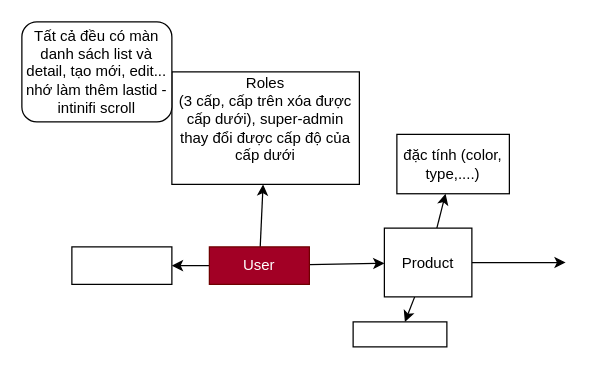
Image size: 598x369. Some labels were removed from this diagram. The centre of each missing label's shape, as x and y in pixels:
"department" goes at [121,265].
"provider" goes at [399,334].
